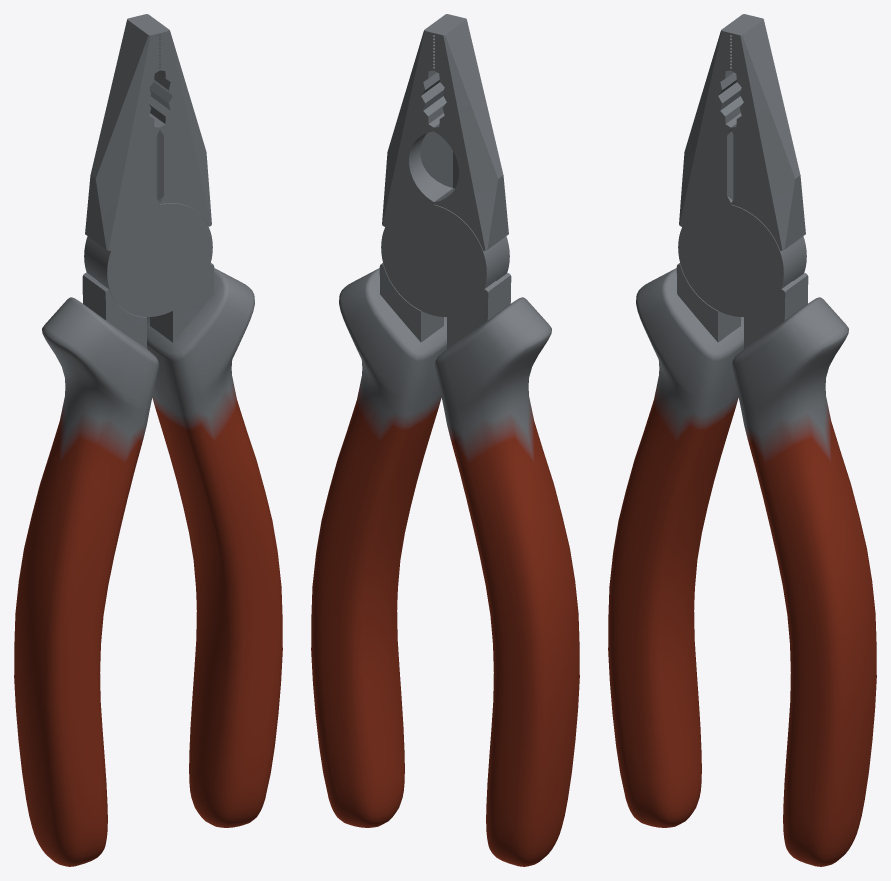
The model's file is pliers.glb.
The picture shows the model from 3 angles, left to right: view 1: azimuth 30°, elevation 25°; view 2: azimuth 150°, elevation 25°; view 3: azimuth 330°, elevation 25°; orthographic projection.
Parts seen in each view (by area): view 1: pliers_b, pliers_a, pliers_pin; view 2: pliers_a, pliers_b, pliers_pin; view 3: pliers_b, pliers_a, pliers_pin.
Part boxes in pixels (x1,y1,x2,y2): pliers_b: (85, 16, 282, 827); pliers_a: (14, 14, 211, 866); pliers_pin: (138, 237, 181, 282); pliers_a: (381, 14, 579, 866); pliers_b: (311, 16, 509, 827); pliers_pin: (412, 237, 455, 282); pliers_b: (678, 14, 876, 866); pliers_a: (608, 16, 806, 827); pliers_pin: (709, 237, 752, 282).
Bounding box in the file's own units: 0.0615 × 0.2 × 0.02.
